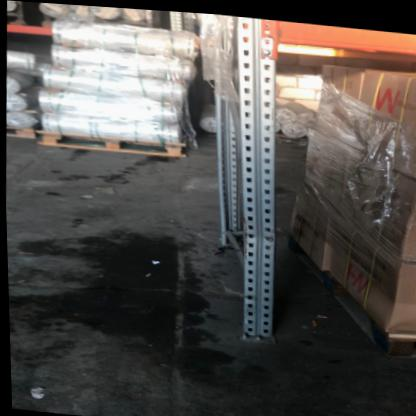vertical_damage: (240, 194, 281, 257)
